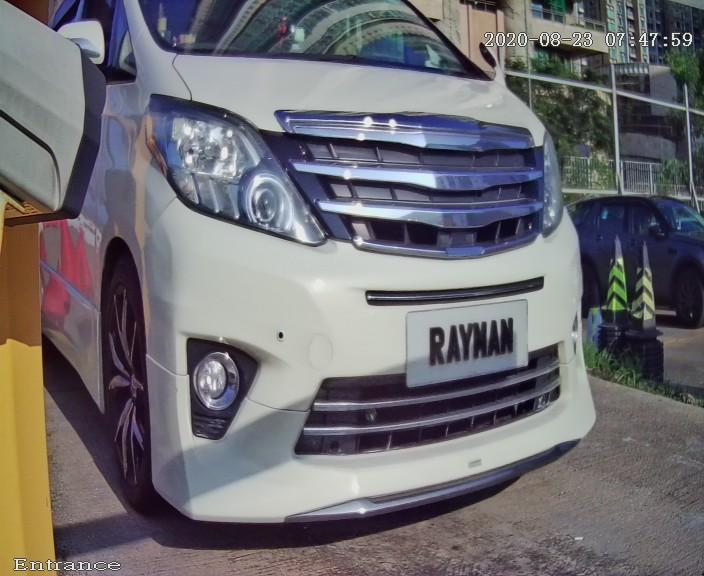Car: (13, 3, 648, 569)
License Plate: (383, 282, 545, 407)
